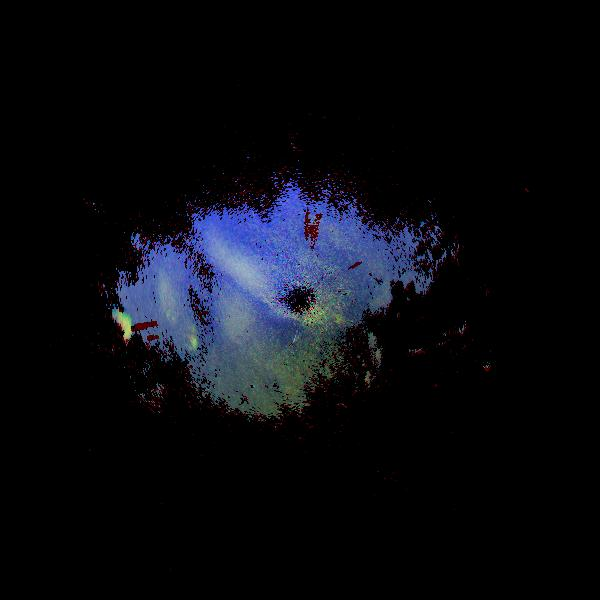roost: (86, 304, 146, 364), (149, 312, 203, 366)
